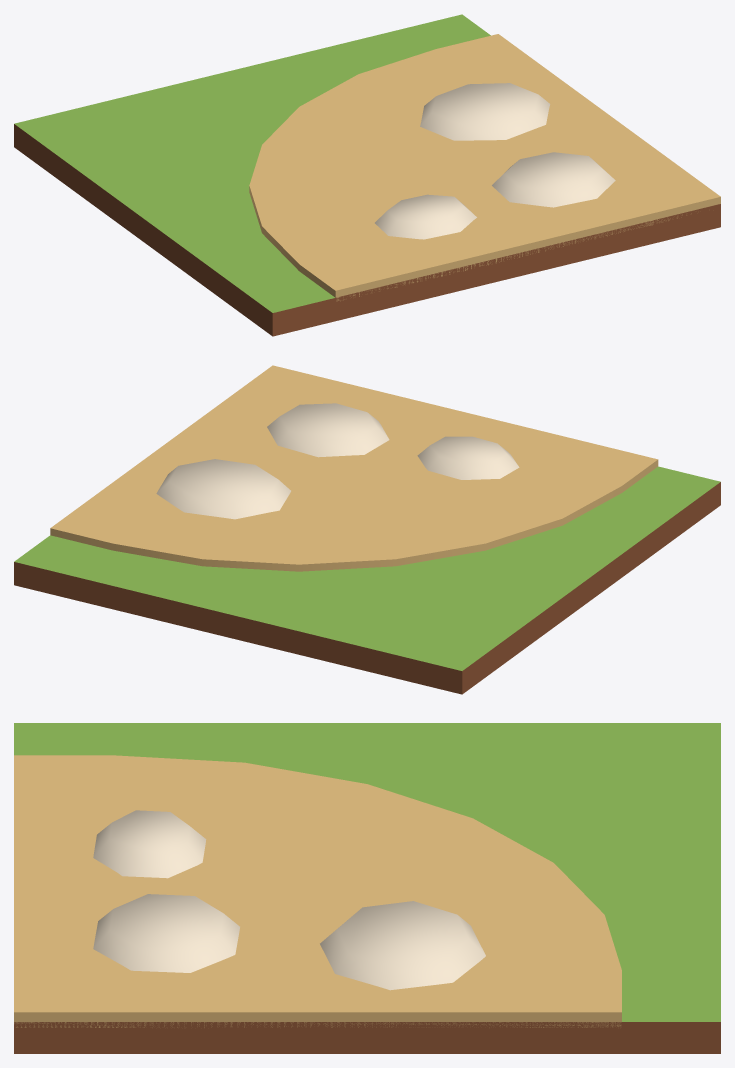
The model's file is path_tile_curve.glb.
The picture shows the model from 3 angles, top to bottom: view 1: azimuth 30°, elevation 25°; view 2: azimuth 150°, elevation 25°; view 3: azimuth 270°, elevation 25°; orthographic projection. The views are drawn at different scales.
Visible parts, largest first — view 1: path_tile_curve; view 2: path_tile_curve; view 3: path_tile_curve.
Part boxes in pixels (x1,y1,x2,y2): path_tile_curve: (14, 14, 720, 336); path_tile_curve: (14, 365, 720, 694); path_tile_curve: (14, 723, 720, 1053).
Bounding box in the file's own units: 1 × 0.09 × 1.
1 material, 1 textured.
